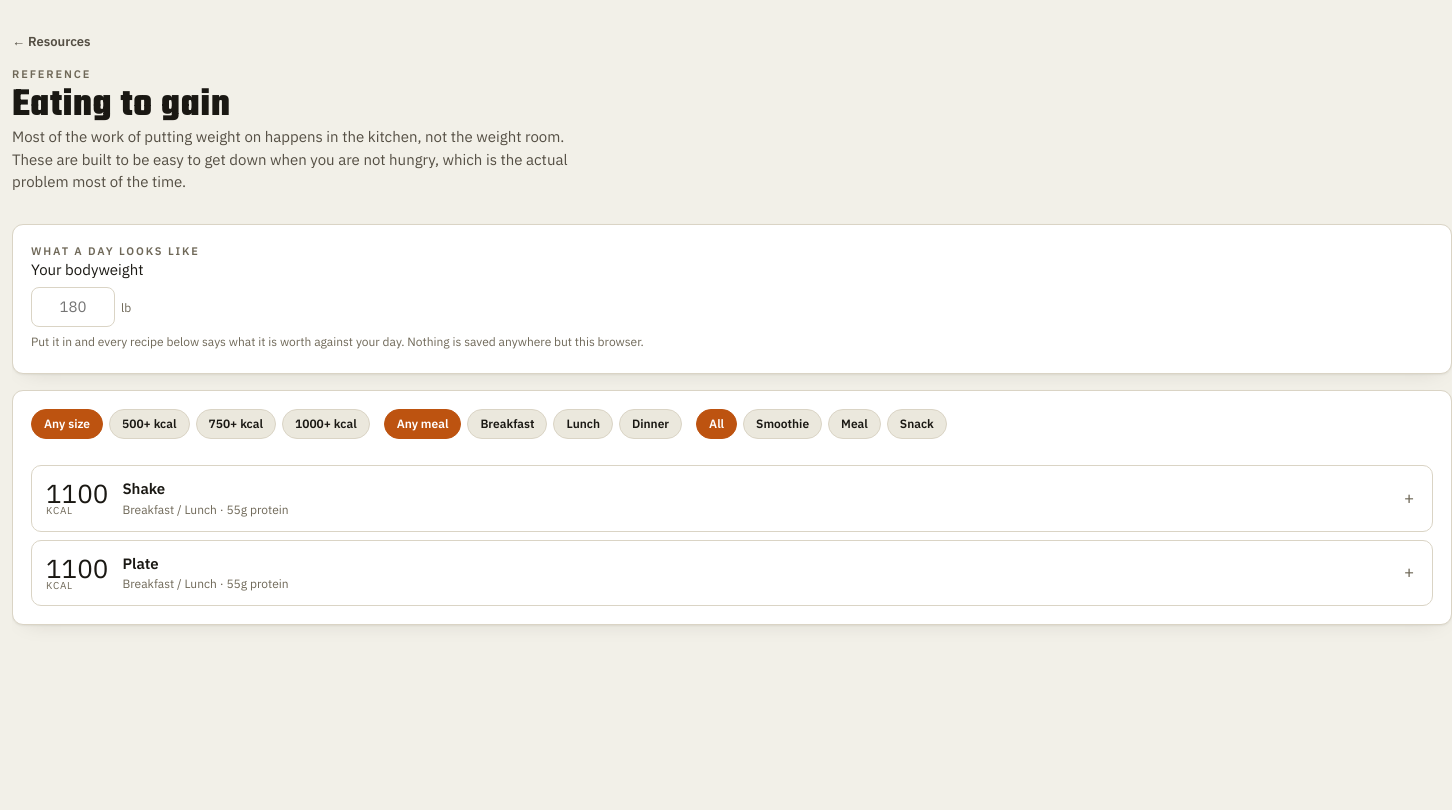
Test: filtering by kind works alongside size
Click the button "Meal". click: x=854, y=424
box: [828,409,881,439]
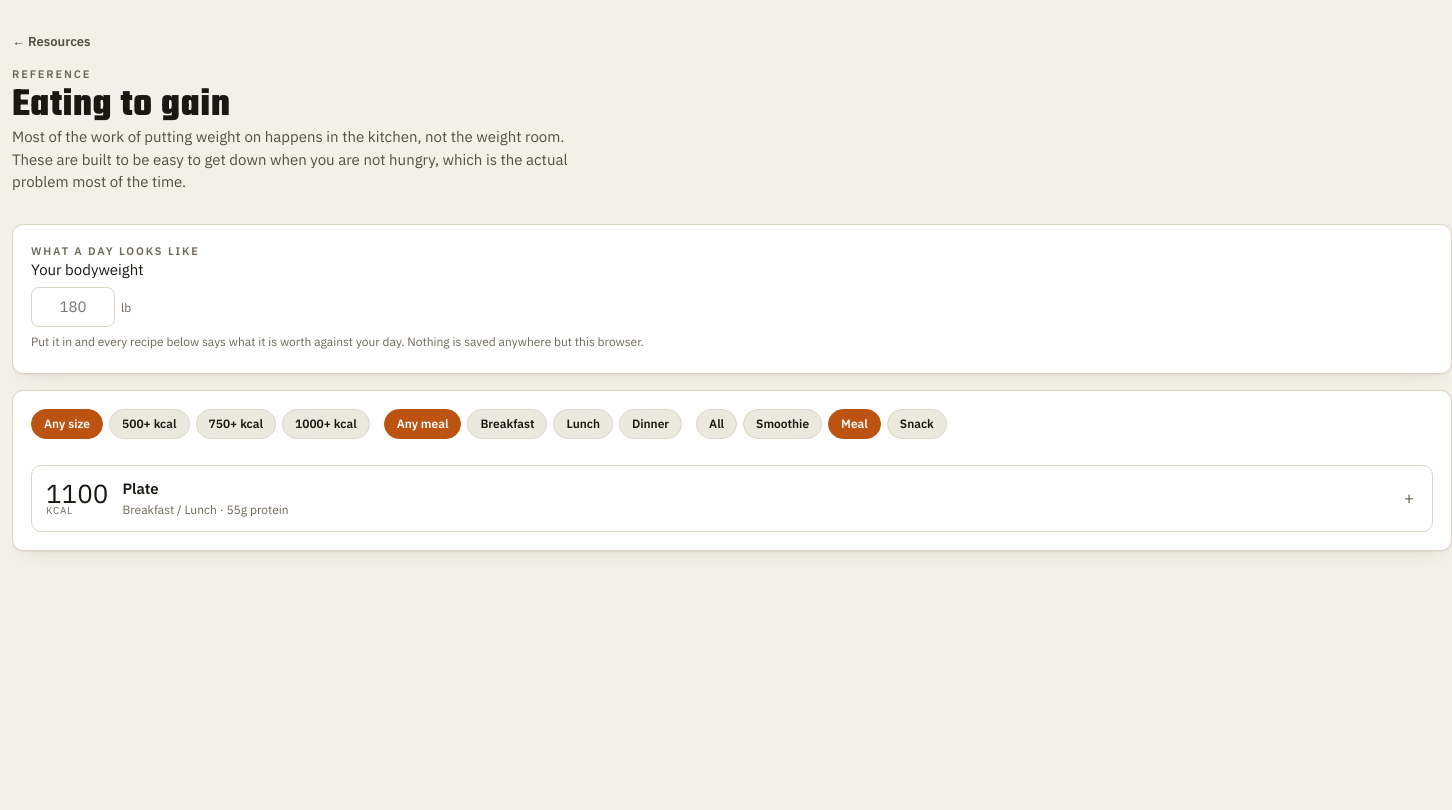
Expected: the text "Plate" is shown, [122,479,159,498]
Now the button "Shake" is gone
